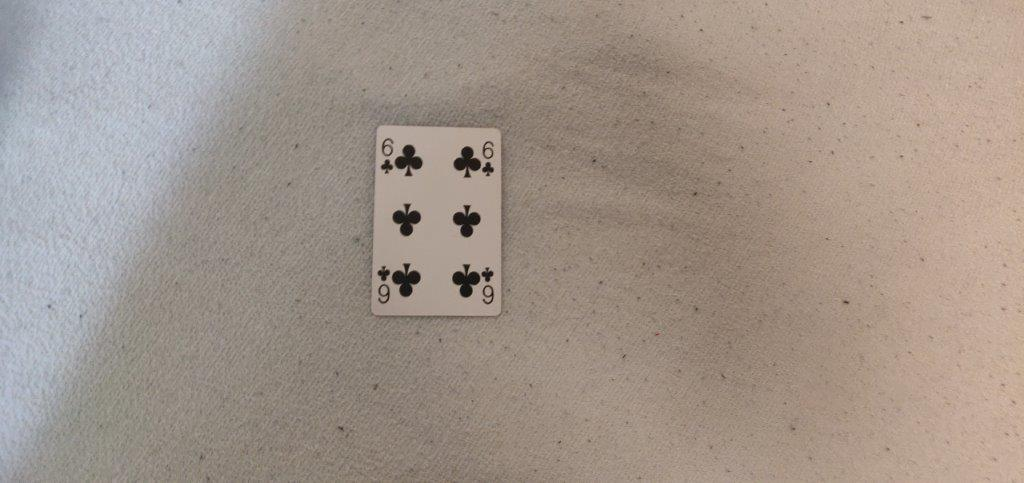6C: (377, 137, 396, 178), (478, 139, 497, 178)
